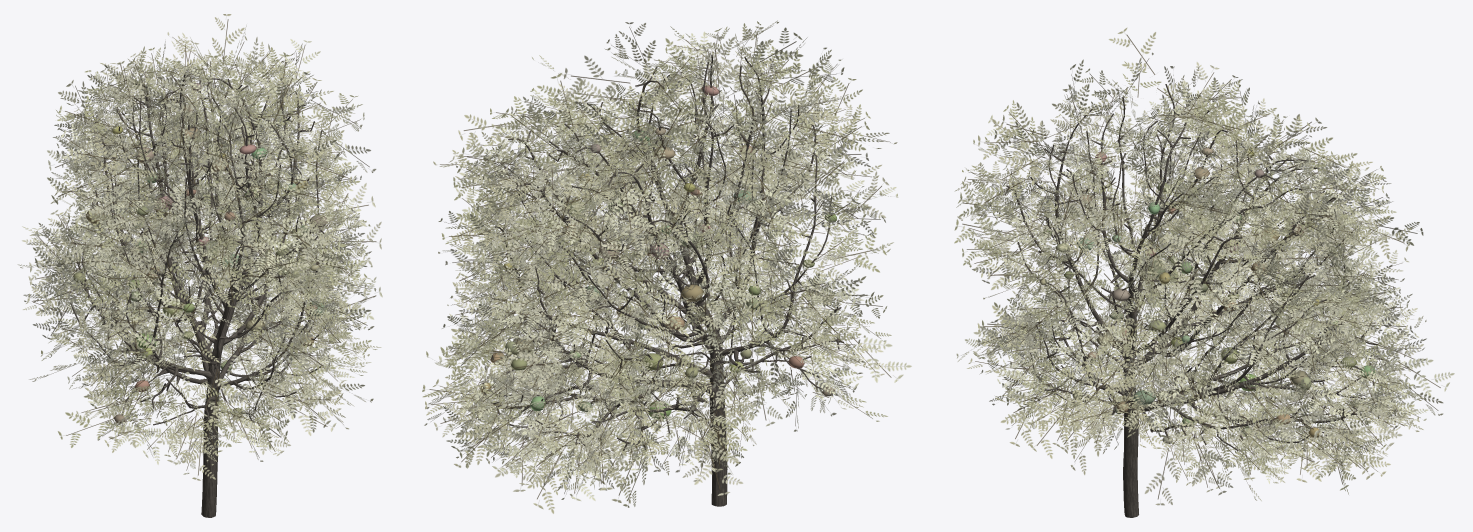
File: tree_36_broadleaf.glb
3 renders of one model, left to right at view 1: azimuth 30°, elevation 25°; view 2: azimuth 150°, elevation 25°; view 3: azimuth 270°, elevation 25°, orthographic. The views are drawn at different scales.
Parts seen in each view (by area): view 1: tree_36_broadleaf.leaves, tree_36_broadleaf.trunk_branches, tree_36_broadleaf.foliage_volume; view 2: tree_36_broadleaf.leaves, tree_36_broadleaf.trunk_branches, tree_36_broadleaf.foliage_volume; view 3: tree_36_broadleaf.leaves, tree_36_broadleaf.trunk_branches, tree_36_broadleaf.foliage_volume.
Boxes of the visible parts, x1,y1,x2,y2 form: tree_36_broadleaf.leaves: [17, 14, 382, 480]; tree_36_broadleaf.trunk_branches: [70, 74, 324, 517]; tree_36_broadleaf.foliage_volume: [72, 83, 327, 423]; tree_36_broadleaf.leaves: [422, 20, 911, 513]; tree_36_broadleaf.trunk_branches: [482, 54, 843, 506]; tree_36_broadleaf.foliage_volume: [480, 85, 836, 419]; tree_36_broadleaf.leaves: [954, 27, 1454, 505]; tree_36_broadleaf.trunk_branches: [1004, 84, 1384, 517]; tree_36_broadleaf.foliage_volume: [1040, 147, 1375, 443].
Size of the model in its own units: 9.04 by 11.57 by 11.31.
3 materials, 2 textured.
